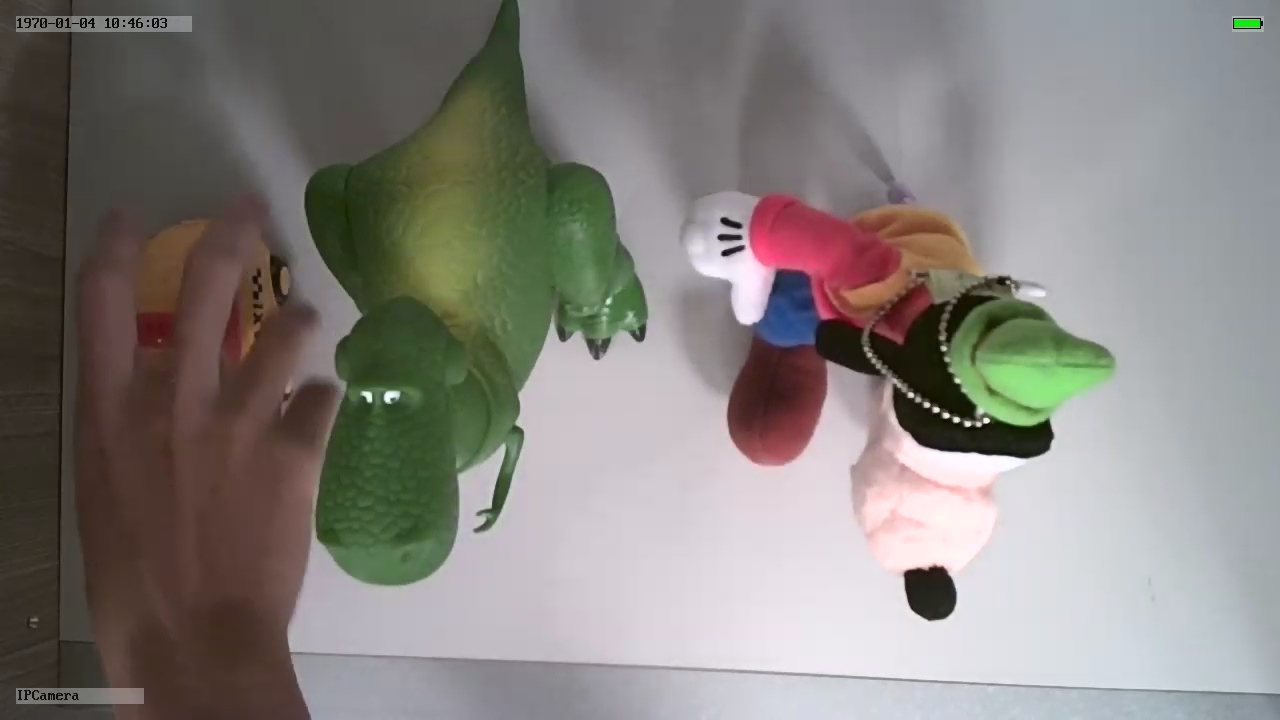goofy: (661, 174, 1118, 633)
rex: (305, 100, 648, 585)
